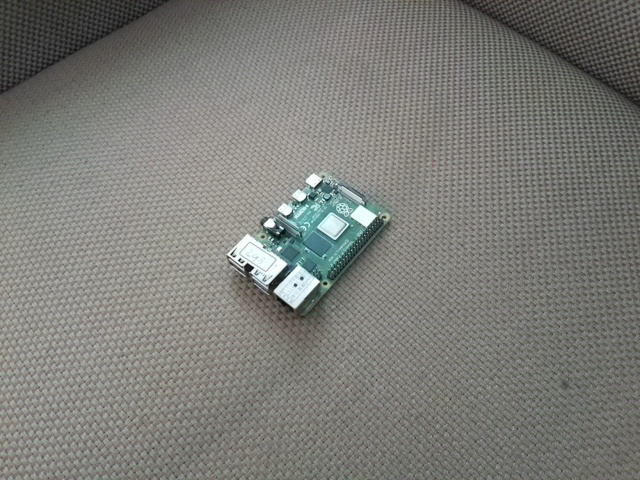Pi4: (222, 163, 397, 324)
